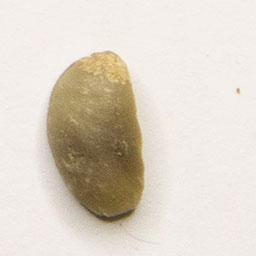longberry: (45, 46, 149, 225)
